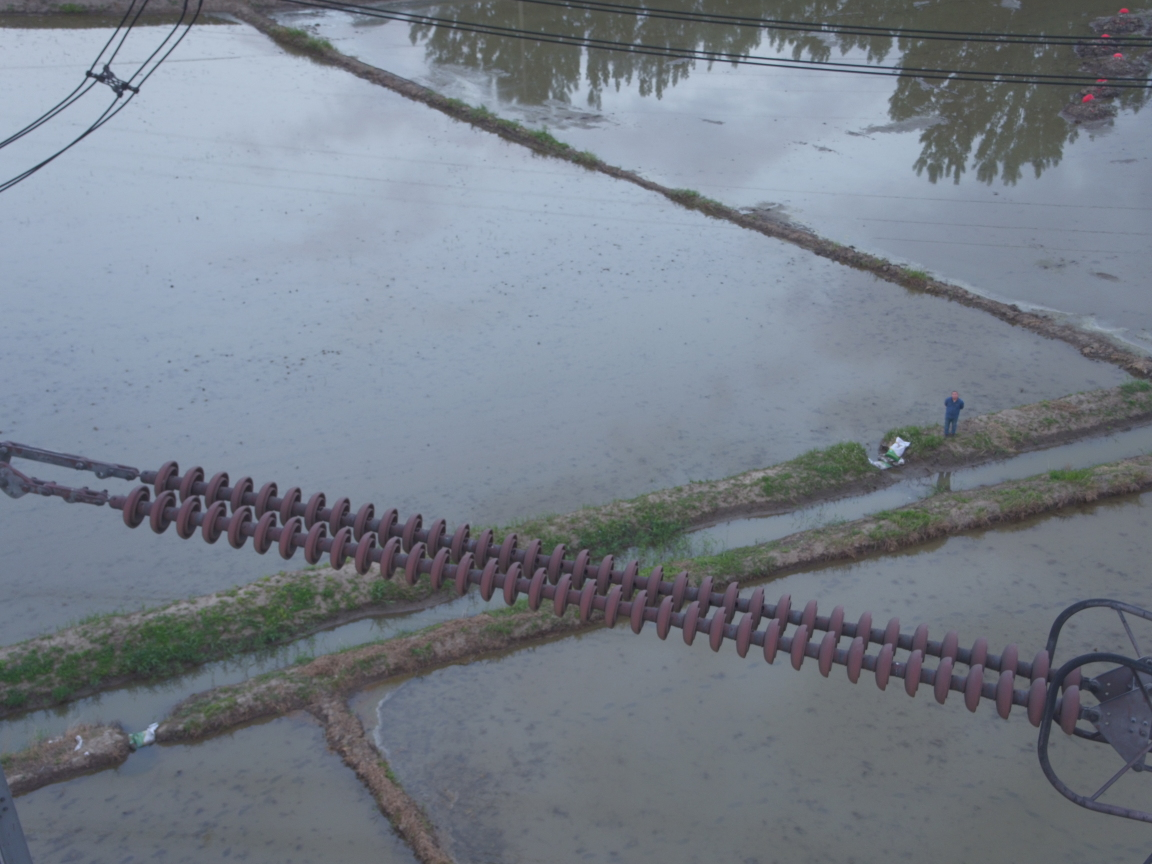insulator: (65, 454, 1122, 738)
